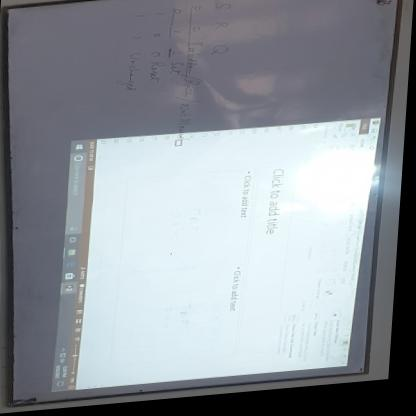Handwritten text: (206, 5, 237, 62), (112, 53, 145, 97), (170, 107, 199, 150), (184, 43, 205, 79), (176, 81, 204, 103), (145, 63, 166, 86), (168, 63, 185, 80)
Whiteboard: (7, 0, 400, 408)
